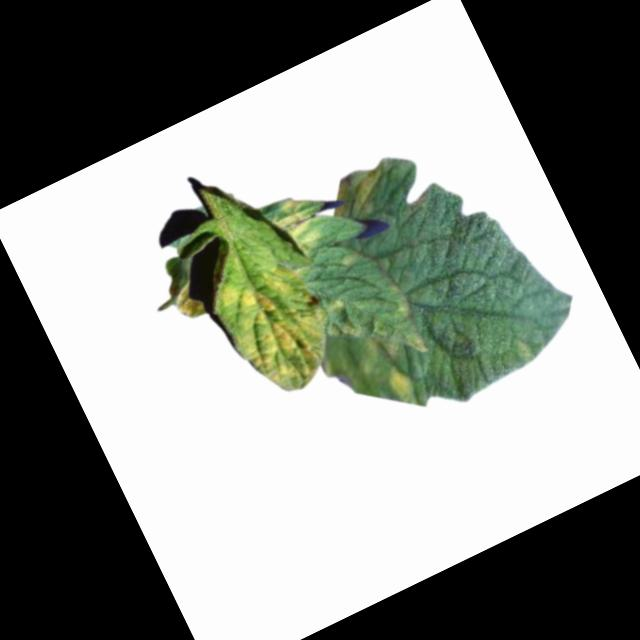Leaf_Mold: (204, 251, 352, 410), (265, 186, 336, 265), (322, 157, 400, 226), (385, 364, 422, 407), (405, 328, 432, 358), (338, 317, 365, 345), (338, 246, 364, 272)
